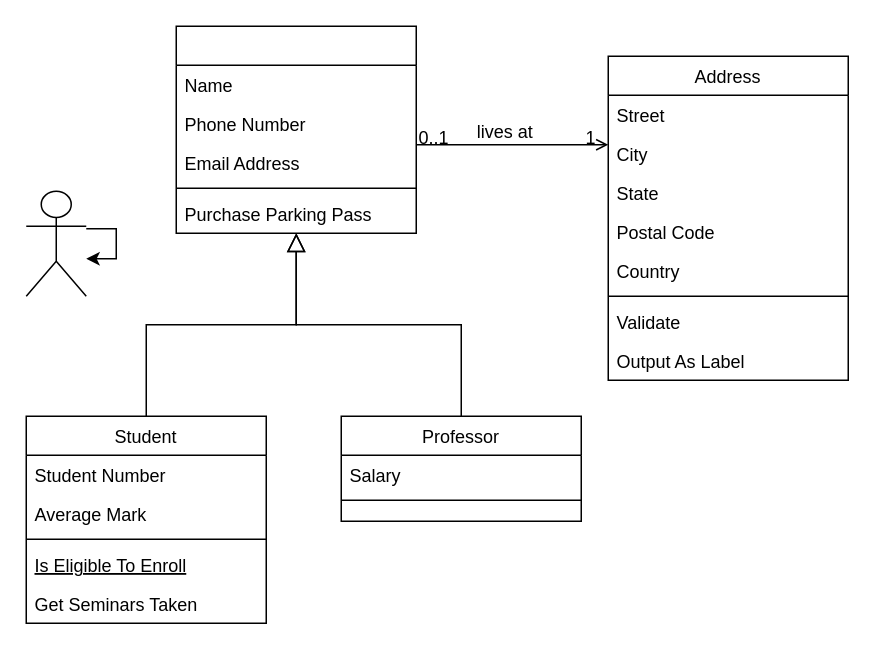
This 875x654 diagram has some shape labels left out. Here are the shapes that lost their labels. From the top down, the box of each, then its label:
(175, 25, 416, 233): Person
(25, 190, 86, 296): Actor
